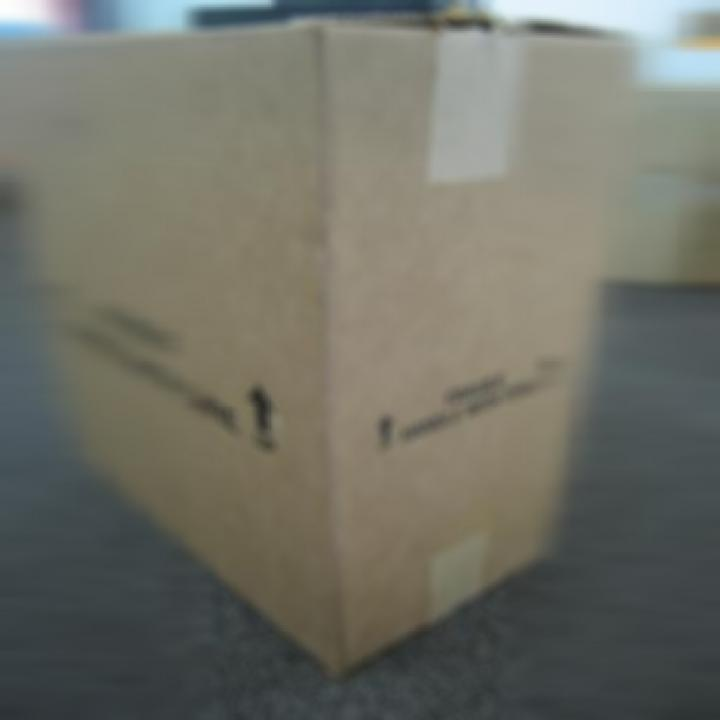box: (0, 0, 588, 668)
